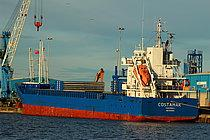Ship: (15, 17, 201, 125)
